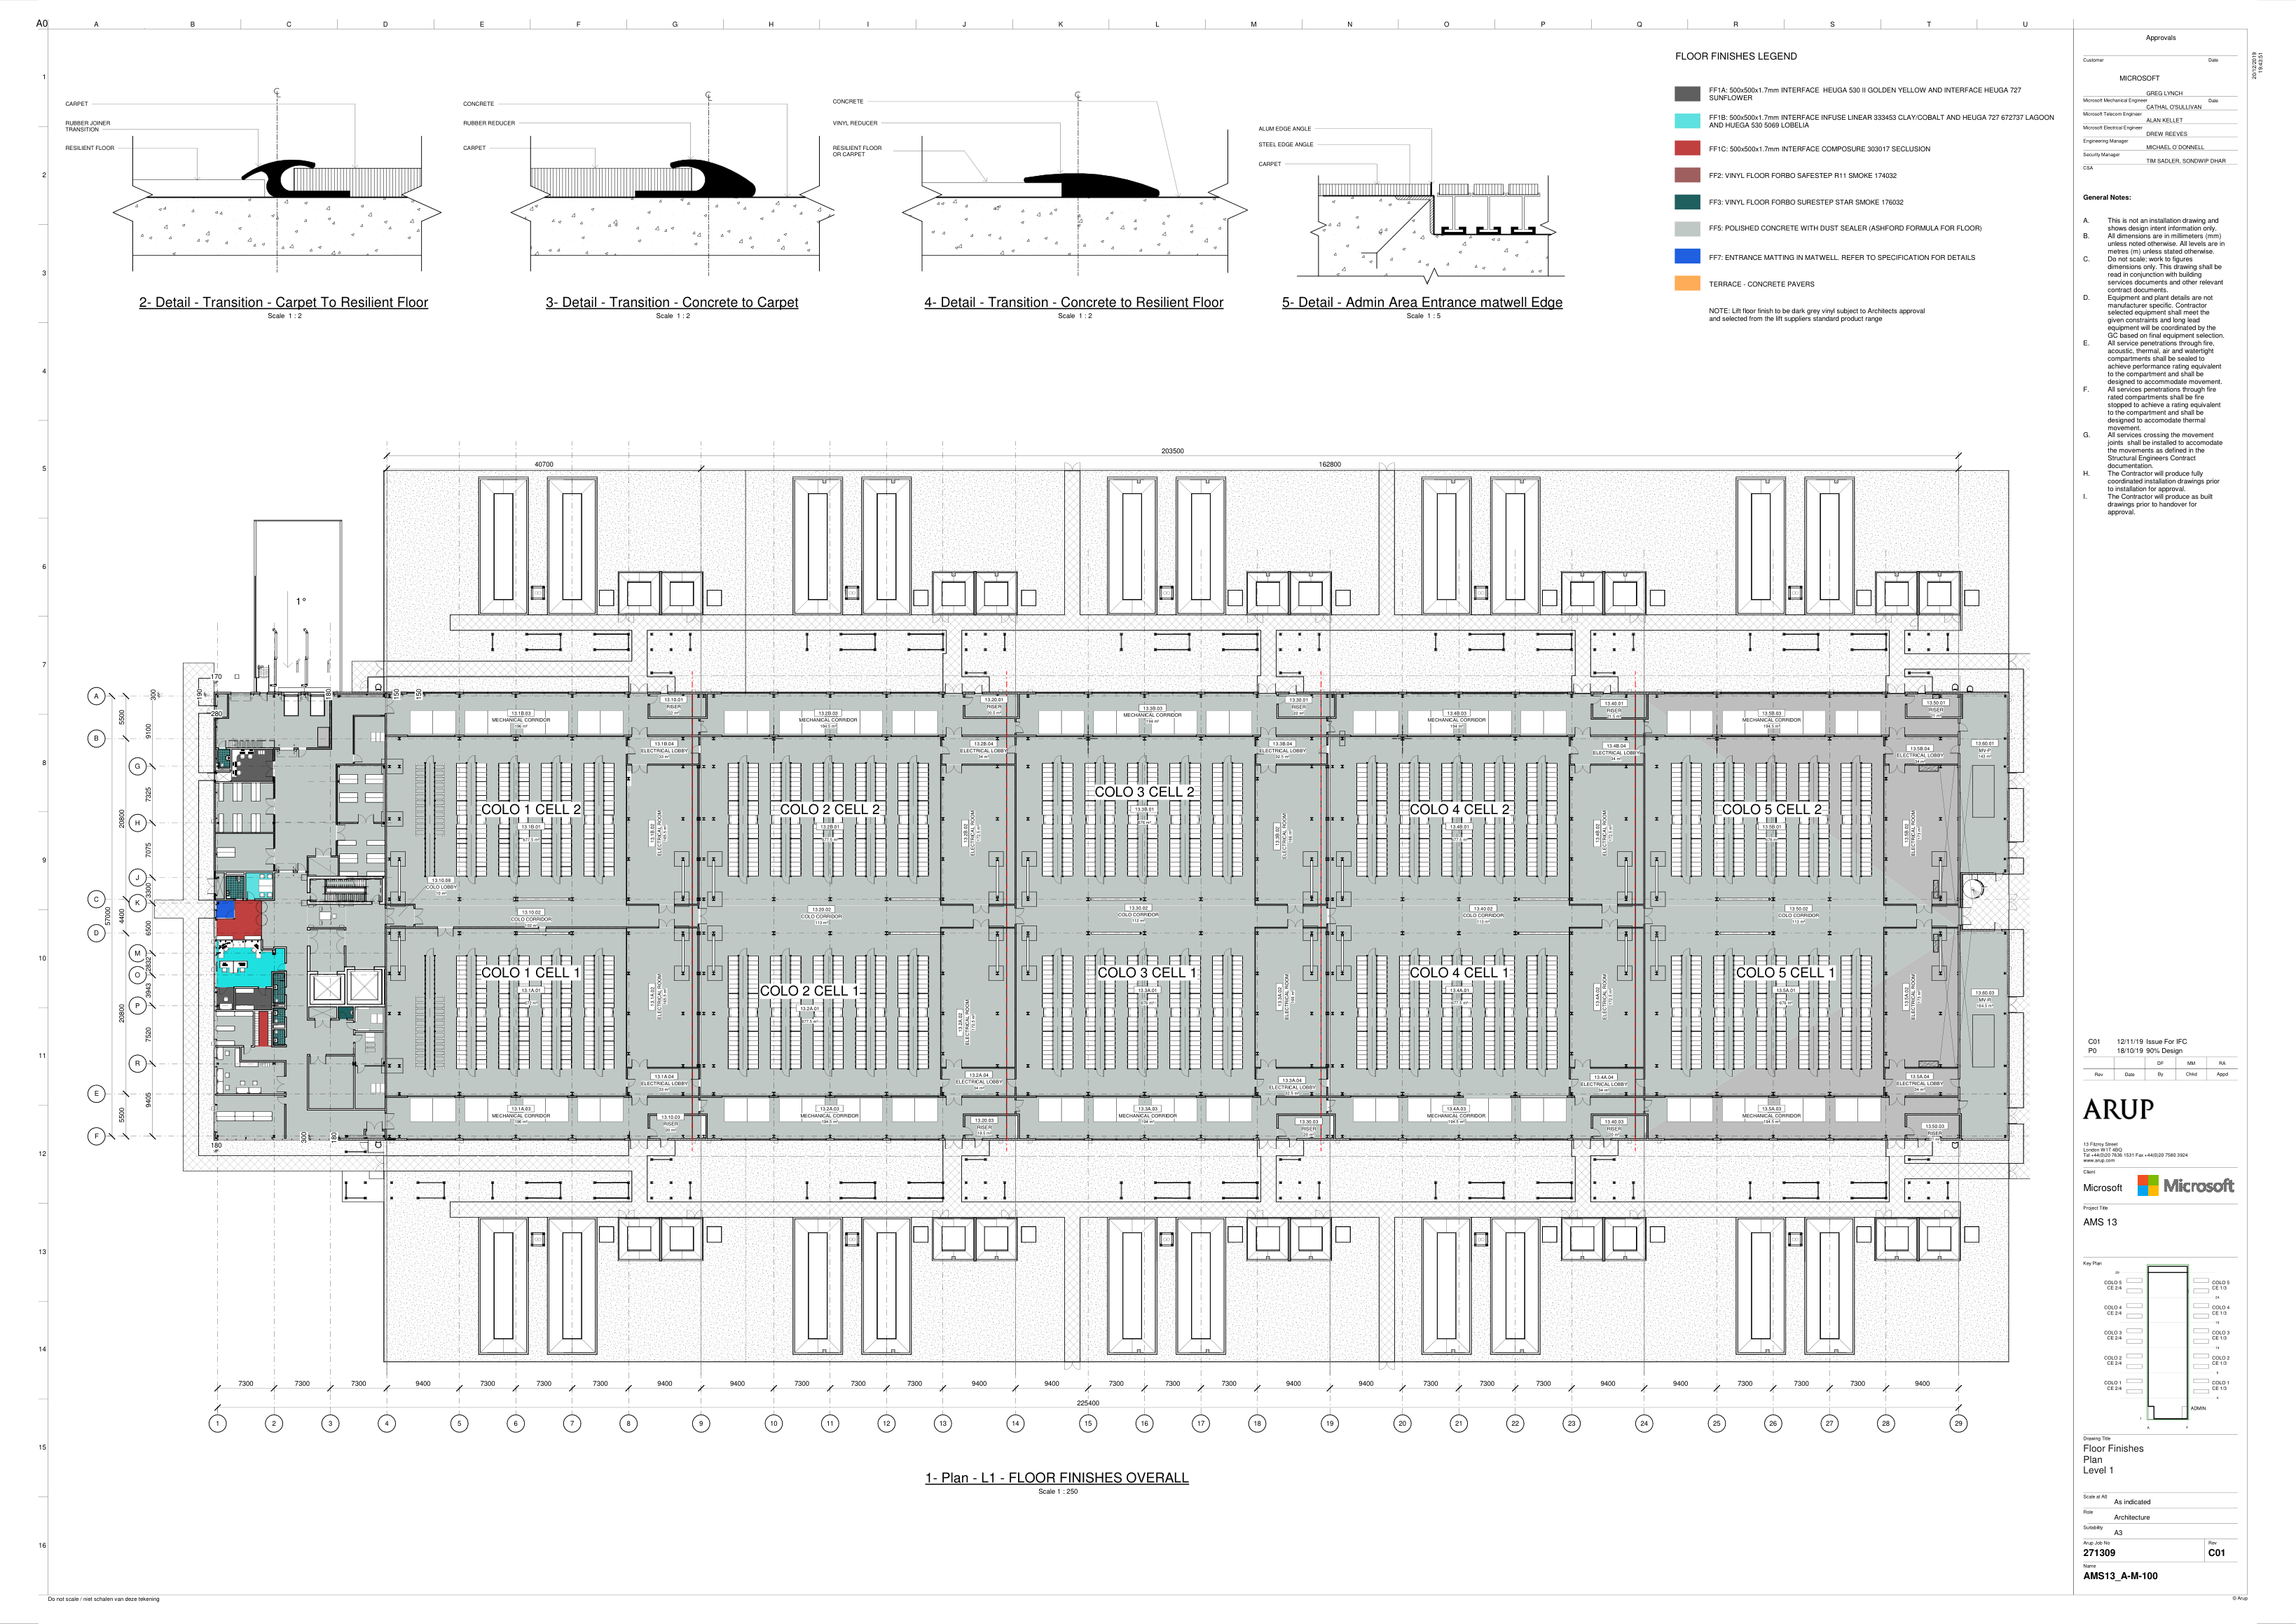Legend: (1672, 49, 2056, 324)
